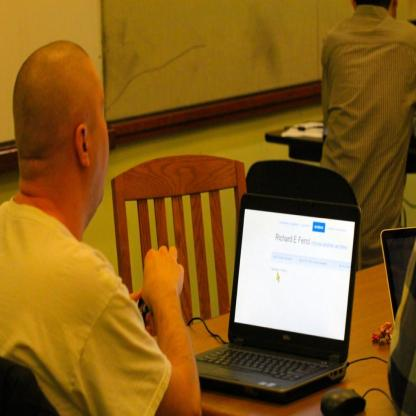board: (195, 194, 360, 406), (379, 224, 416, 324)
